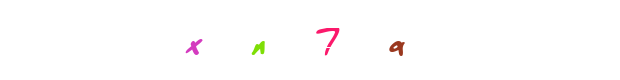7: (270, 0, 350, 80)
A: (357, 0, 437, 80)
N: (243, 0, 323, 80)
X: (219, 0, 299, 80)
